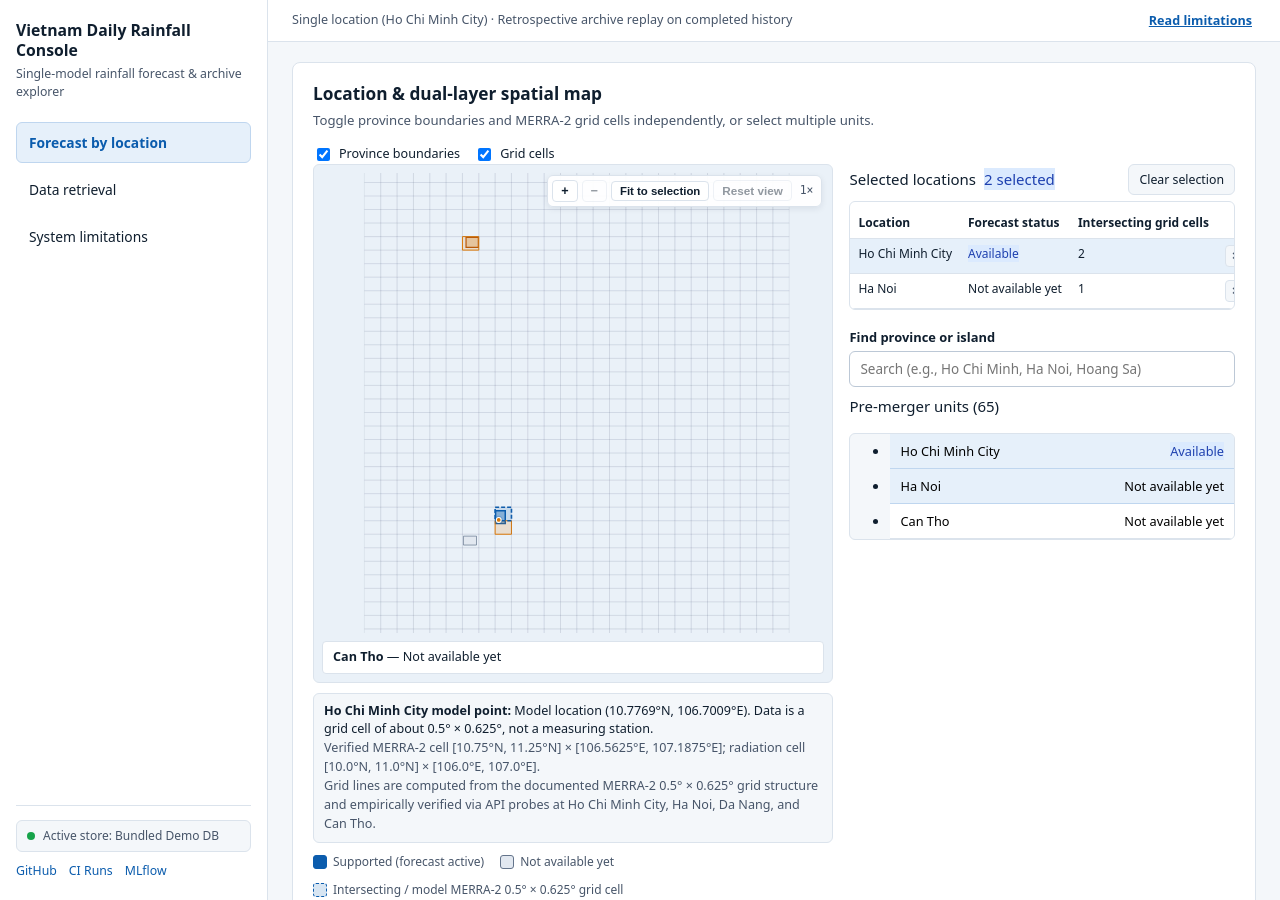
it: Round 10 English SPA, Single-Model Main, 2-Layer Map & Data Retrieval › supports map zoom controls, toggle-to-deselect, X button, Clear selection revert to HCMC, and scrollable 5-row selected table (Part A)
Earlier steps of the test are not shown.
Check: the text with test id "selected-count-badge" reads "2 selected", box [984, 169, 1055, 189]
Click the button "Clear selection" at (1182, 179), box [1128, 164, 1235, 195]
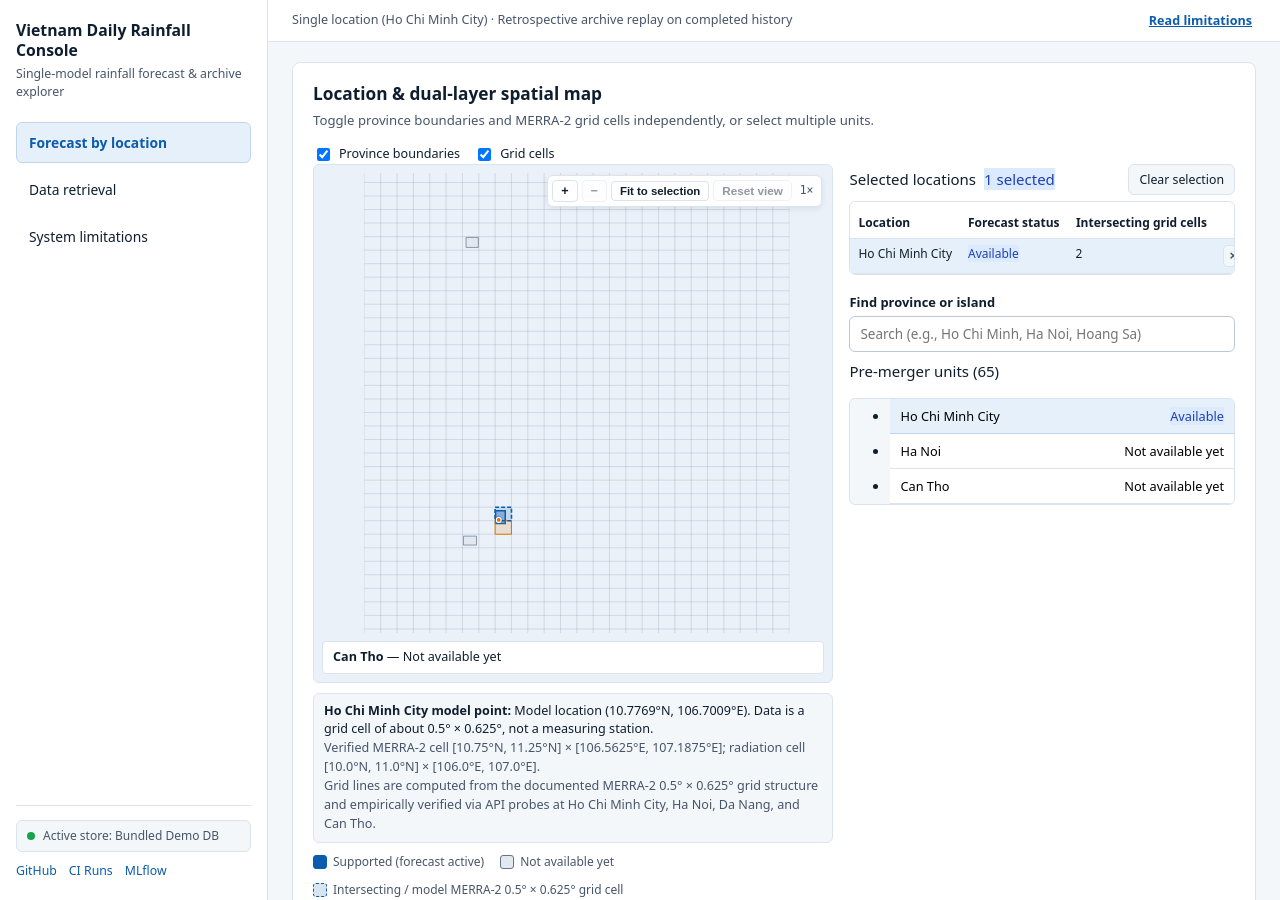
Check: the element with test id "selected-locations-table" shows "Ho Chi Minh City", box [858, 245, 952, 262]
Check: the text with test id "selected-count-badge" reads "1 selected", box [984, 169, 1055, 189]
